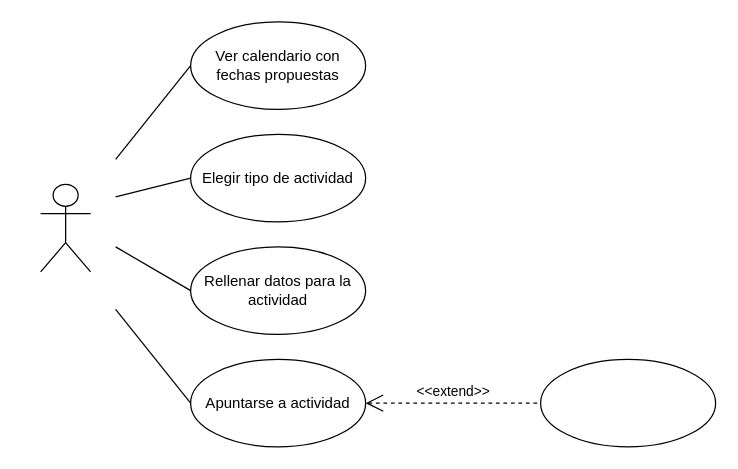
Some shapes in this 738 by 469 pixel diagram are drawn without their labels. Each missing label, with the centre of its shape:
"Desapuntarse de actividad" goes at (x=627, y=402).
"UsuarioSocio" goes at (x=65, y=227).
